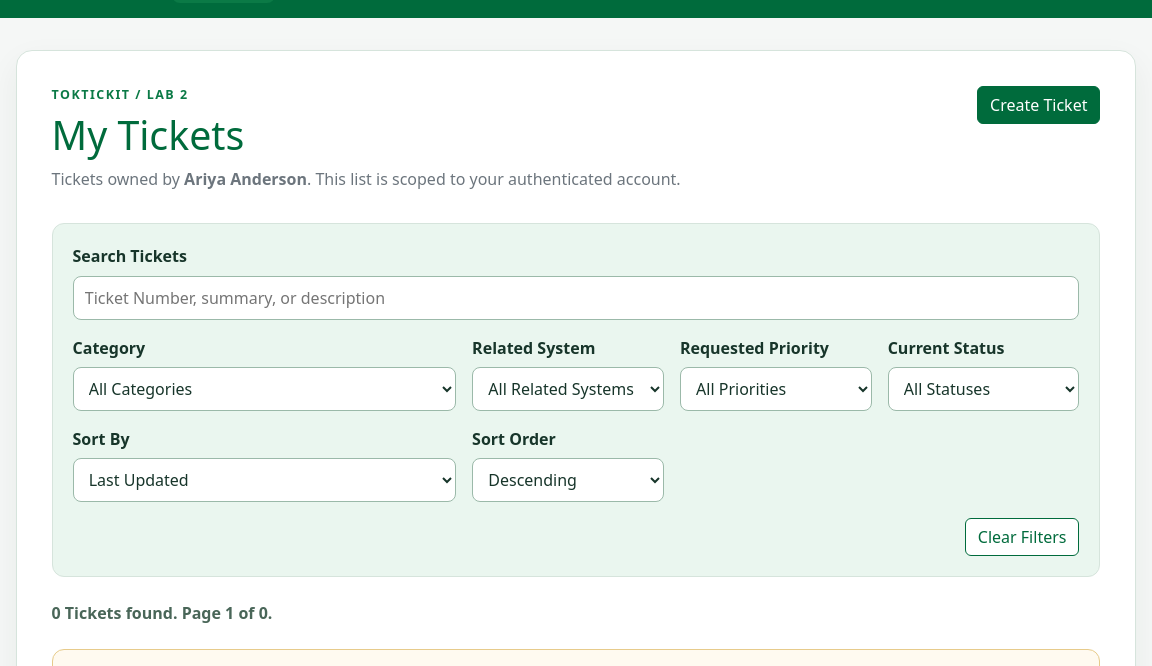
it: Lab 2 My Tickets screen › shows the requester empty state and distinguishes a filtered no-results state
Expected: the heading "My Tickets" is shown, [52,108,244,162]
Step 1. Type "printer" into the search field labelled "Search Tickets" → (576, 298), box [72,276,1079,320]
(page scrolled)
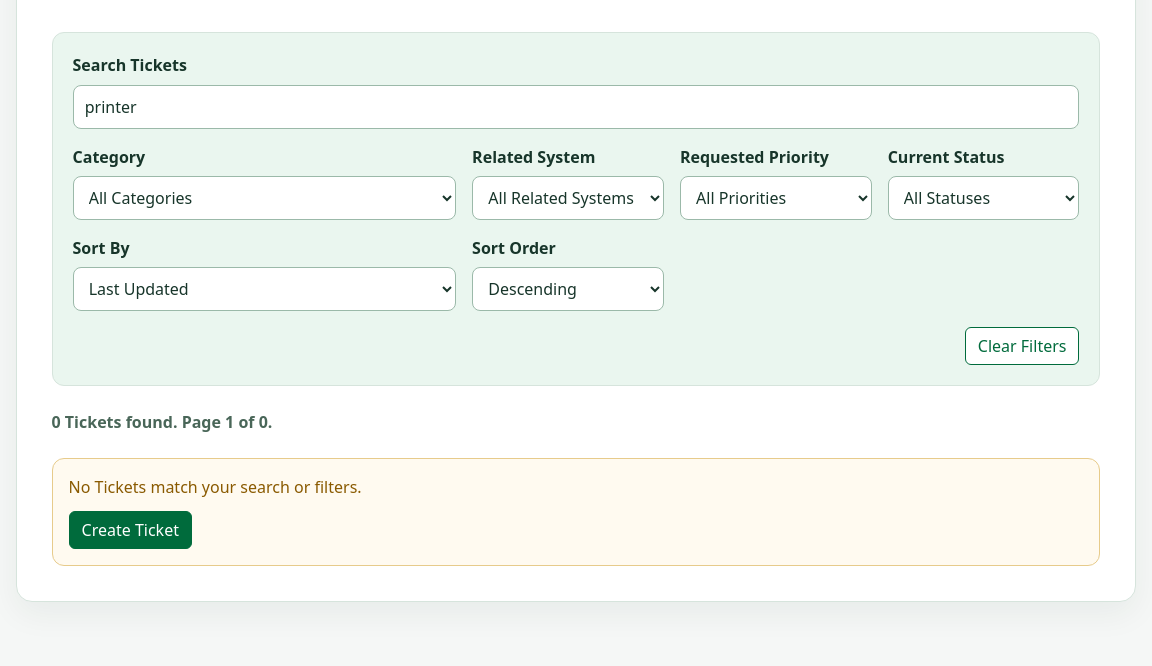
Expected: the text "No Tickets match your search or filters." is shown, [68,476,362,498]
